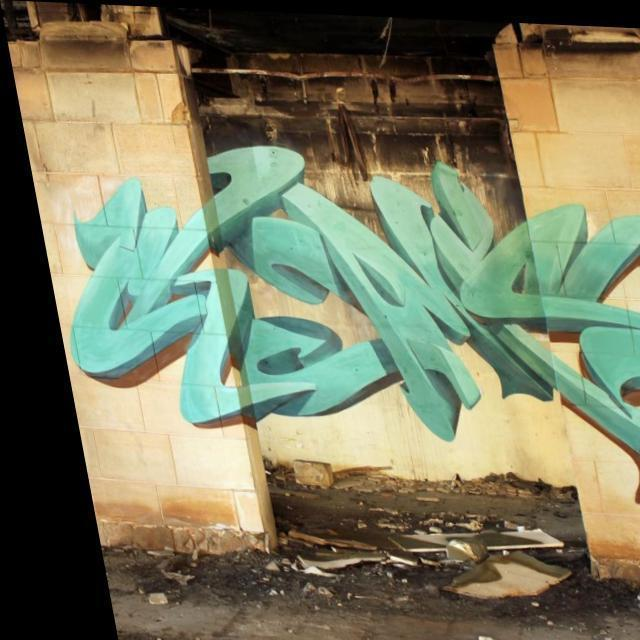nonspitting: (71, 143, 640, 509)
